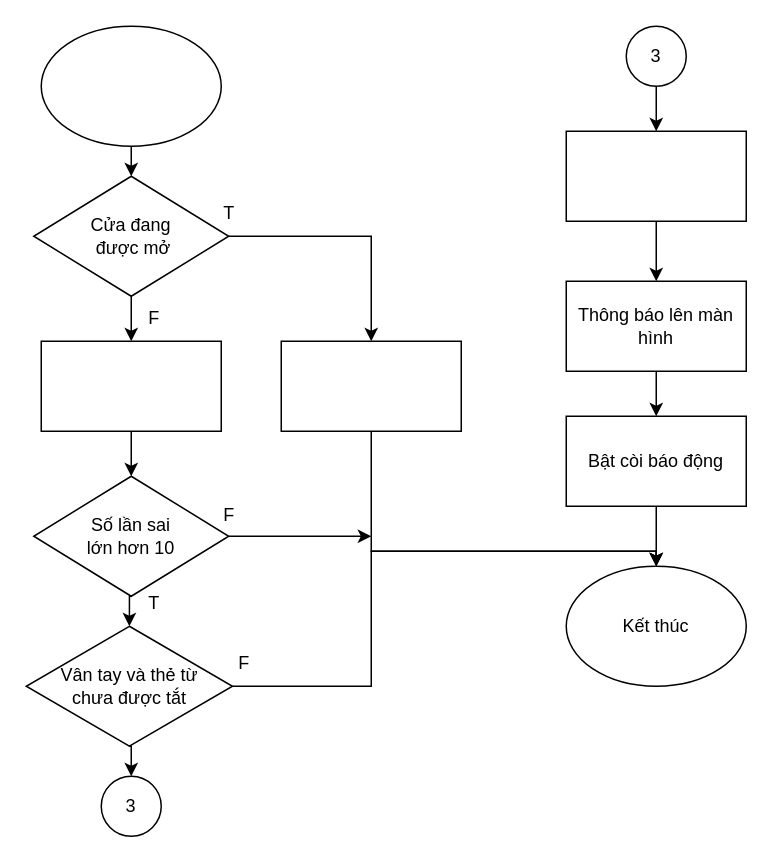
Image size: 773x863. Some labels were removed from this diagram. The shapes that lost their labels are listed below. From the top down, each one's centre as x and y in pixels, then its label:
At (130,85): "Bắt đầu".
At (655,175): "Tắt chức năng vân tay và thẻ từ".
At (130,385): "Kiểm tra số lần xác thực sai".
At (370,385): "Gán số lần xác thực sai bằng 0".
